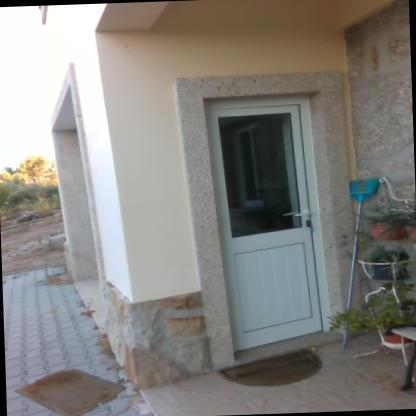closed: (190, 80, 350, 364)
